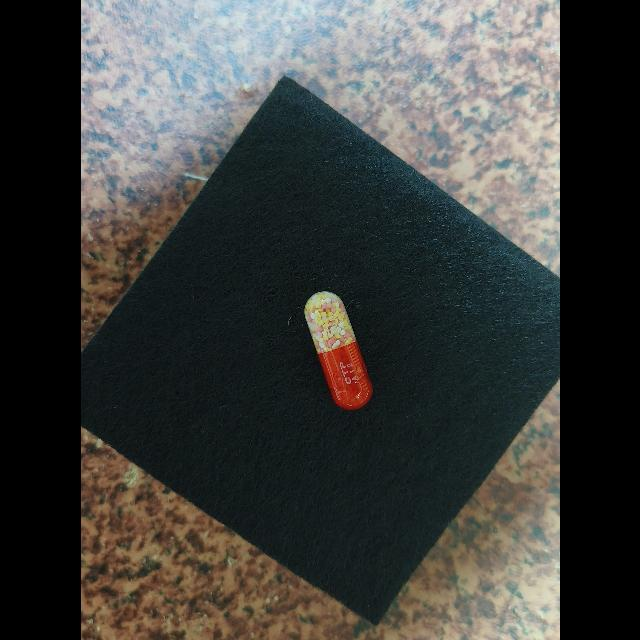Intact Capsule: (304, 291, 373, 410)
